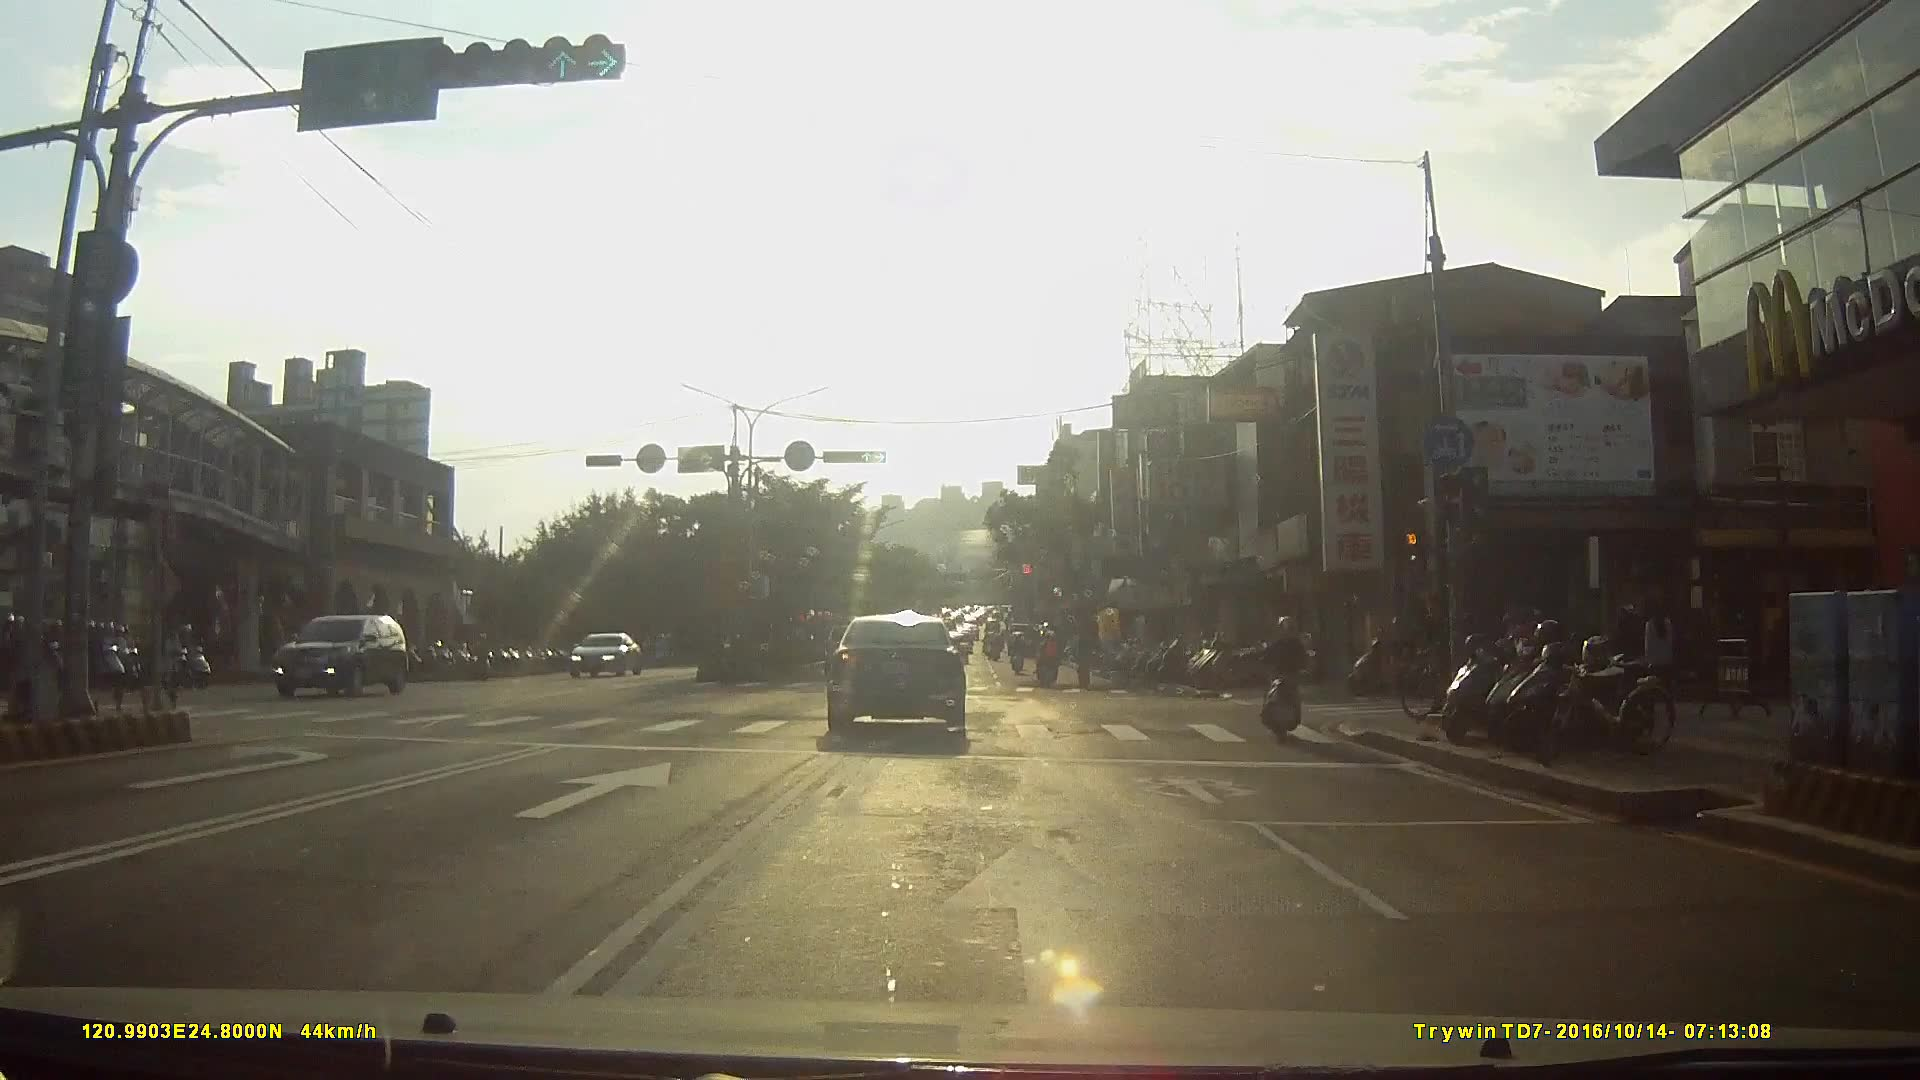pedestrian: (1640, 598, 1678, 704)
rider: (1261, 617, 1319, 741), (71, 625, 134, 689), (1037, 631, 1065, 693), (1007, 635, 1029, 680)
vehicle: (827, 609, 983, 748), (270, 613, 418, 699), (569, 632, 645, 682)
